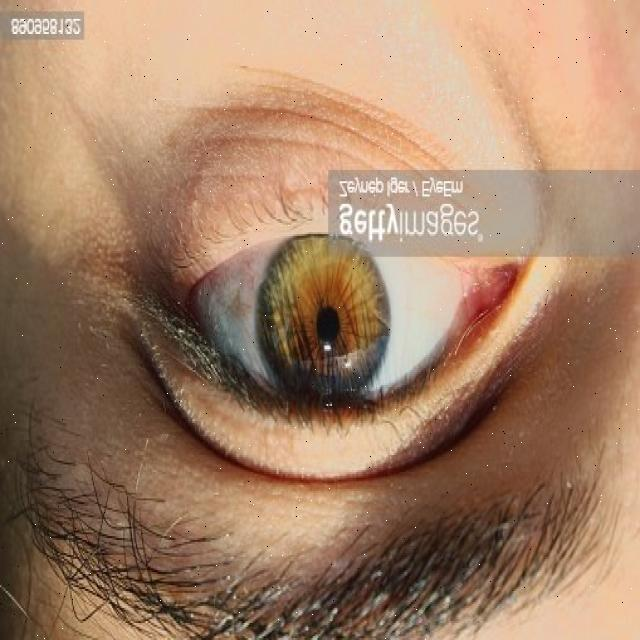Normal: (260, 226, 392, 419)
